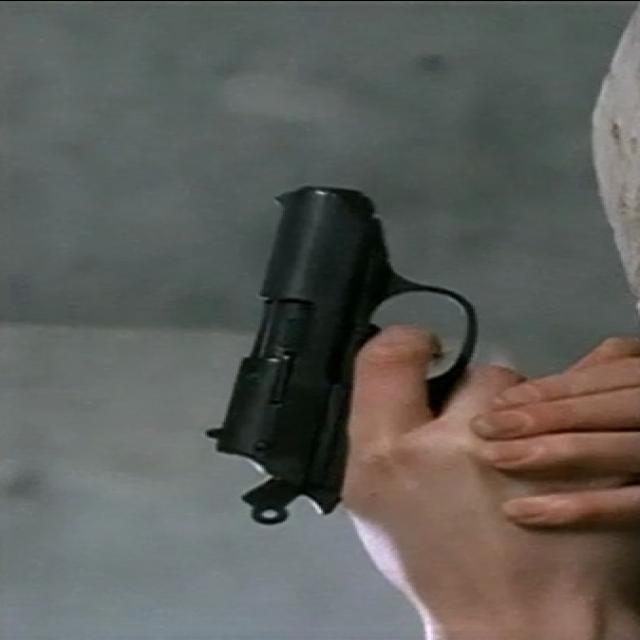weapons: (186, 155, 603, 563)
